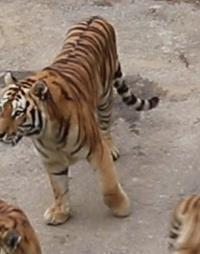tiger: (0, 16, 158, 224)
